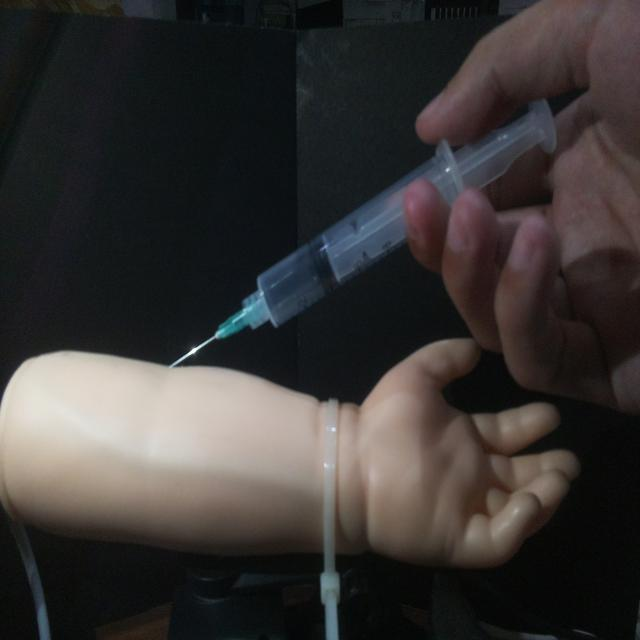23deg: (165, 92, 560, 370)
